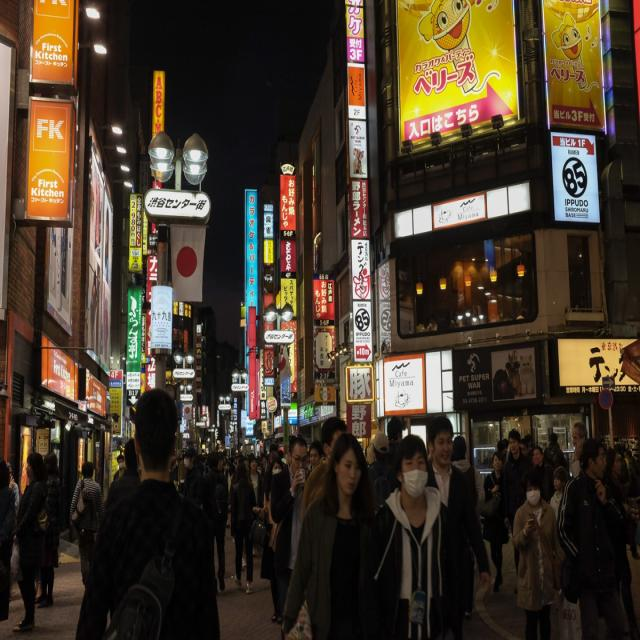body: (72, 382, 227, 640), (168, 412, 564, 503), (277, 432, 384, 639), (366, 434, 465, 640), (32, 535, 266, 605), (425, 414, 493, 640), (552, 434, 626, 640), (508, 472, 568, 639), (270, 436, 316, 618), (10, 450, 50, 636), (604, 446, 638, 640), (451, 435, 485, 619), (249, 458, 285, 624), (500, 426, 536, 577), (300, 414, 348, 526), (85, 178, 113, 362), (70, 461, 107, 591), (481, 446, 512, 596), (34, 449, 63, 608), (227, 459, 259, 596), (201, 451, 230, 594), (618, 430, 640, 562), (105, 437, 142, 510), (5, 458, 18, 604), (178, 444, 204, 506), (540, 432, 571, 478), (530, 445, 554, 504), (549, 464, 570, 522), (246, 454, 264, 520), (5, 460, 20, 527), (571, 420, 588, 479), (113, 453, 128, 481)
